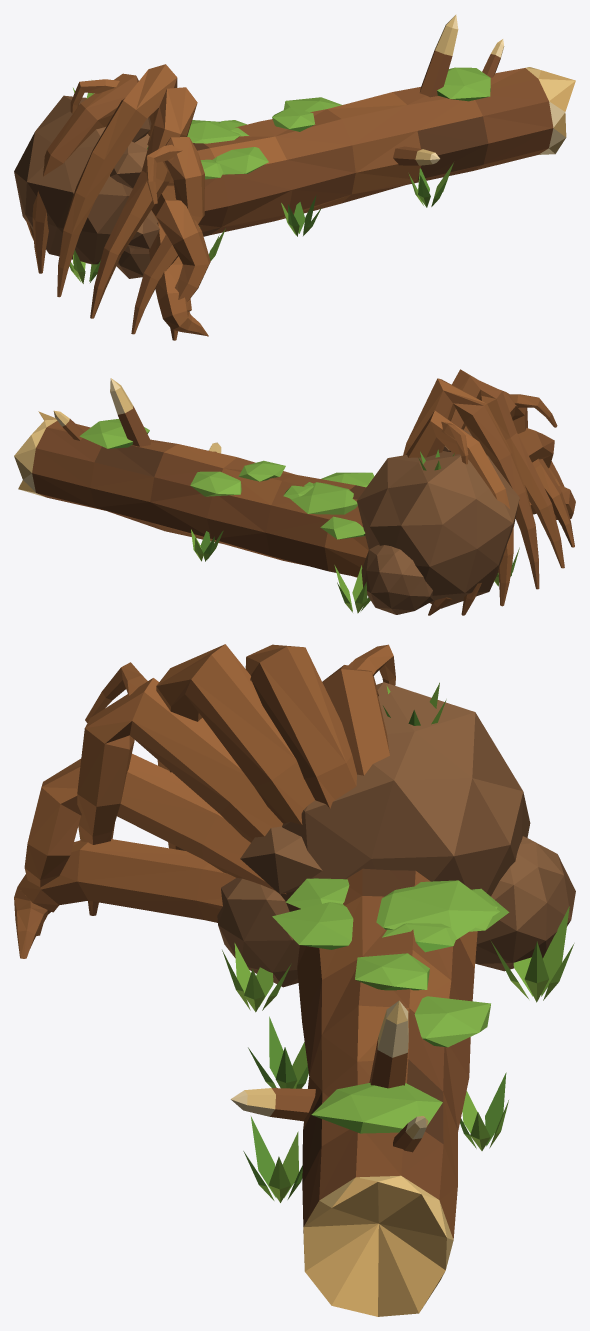
The model's file is FMS_Wood_Log_Fallen.fbx.
3 renders of one model, top to bottom at view 1: azimuth 30°, elevation 25°; view 2: azimuth 150°, elevation 25°; view 3: azimuth 270°, elevation 25°, orthographic. The views are drawn at different scales.
Parts seen in each view (by area): view 1: FMS_Wood_Log_Fallen; view 2: FMS_Wood_Log_Fallen; view 3: FMS_Wood_Log_Fallen.
Part boxes in pixels (x1,y1,x2,y2): FMS_Wood_Log_Fallen: (14,14,575,340); FMS_Wood_Log_Fallen: (14,369,575,615); FMS_Wood_Log_Fallen: (14,644,575,1316).
Bounding box in the file's own units: 4.23 × 1.55 × 2.31.
